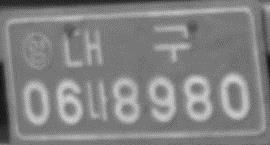0: (219, 72, 251, 120), (22, 78, 51, 125)
6: (54, 76, 84, 126)
8: (181, 73, 214, 122), (111, 76, 142, 124)
9: (147, 76, 178, 122)
나: (85, 78, 109, 122)
대구_D: (61, 22, 192, 69)
영: (20, 31, 54, 69)
